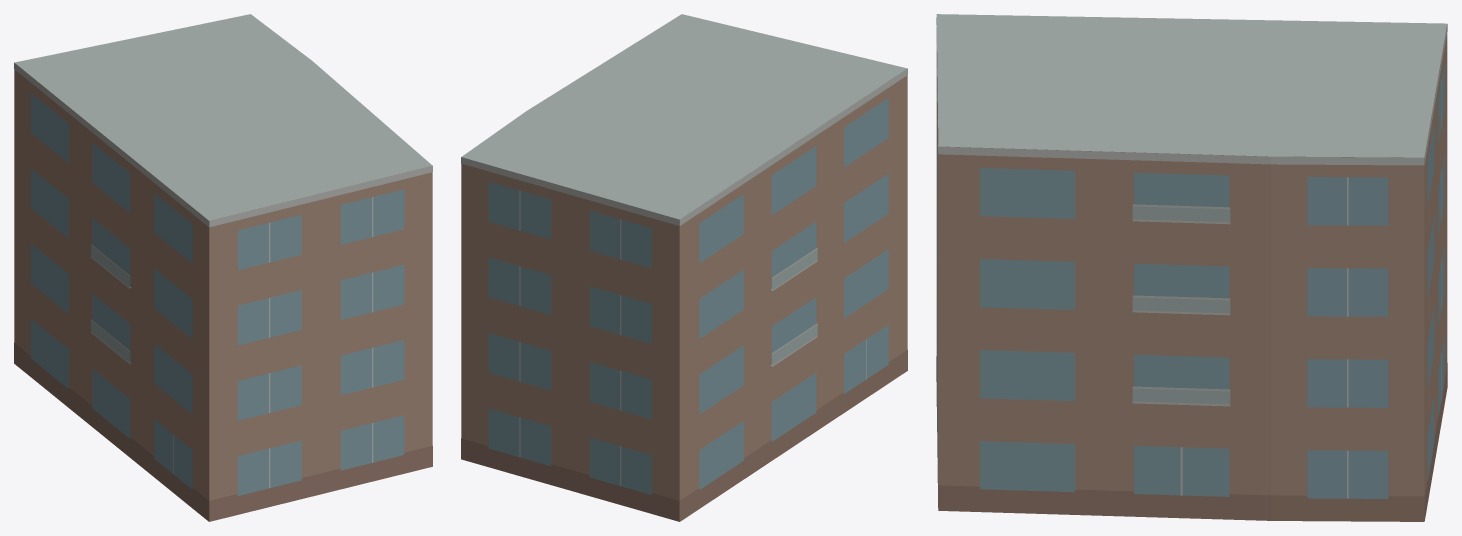
Rendered from survey-upis-32971692.glb.
3 views of the same model, side by side, from view 1: azimuth 30°, elevation 25°; view 2: azimuth 150°, elevation 25°; view 3: azimuth 270°, elevation 25° (orthographic). The views are drawn at different scales.
Visible parts, largest first — view 1: survey-upis-32971692.tmp; view 2: survey-upis-32971692.tmp; view 3: survey-upis-32971692.tmp.
Boxes of the visible parts, <box> form: survey-upis-32971692.tmp: <box>14,14,432,521</box>; survey-upis-32971692.tmp: <box>461,14,907,521</box>; survey-upis-32971692.tmp: <box>936,14,1447,521</box>.
Bounding box in the file's own units: 9.52 × 11.25 × 14.31.
